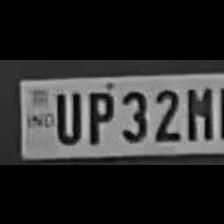2: (148, 82, 182, 142)
3: (116, 84, 148, 142)
M: (182, 82, 214, 140)
P: (80, 86, 116, 144)
U: (50, 86, 82, 144)
